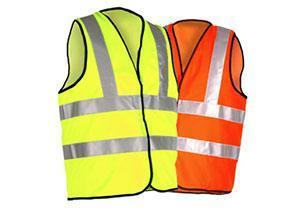vest: (54, 7, 179, 199), (164, 18, 249, 194)
